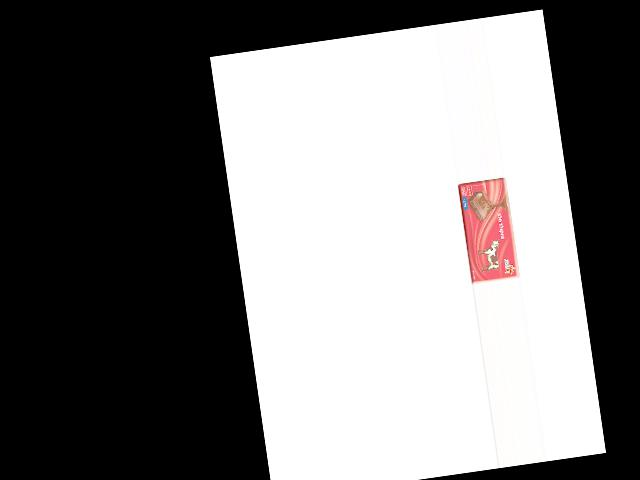chocolate: (457, 176, 520, 285)
